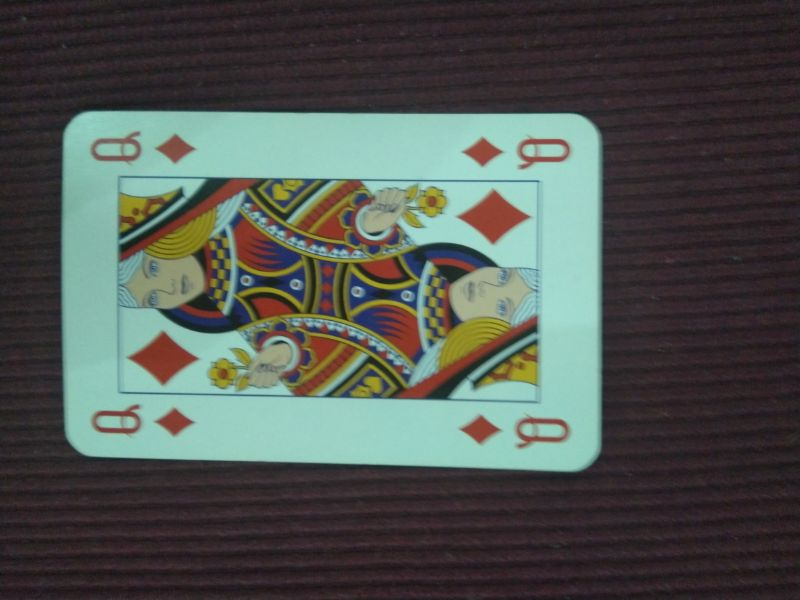Qd: (456, 406, 577, 453), (81, 397, 204, 442), (455, 132, 575, 176), (86, 129, 204, 167)
